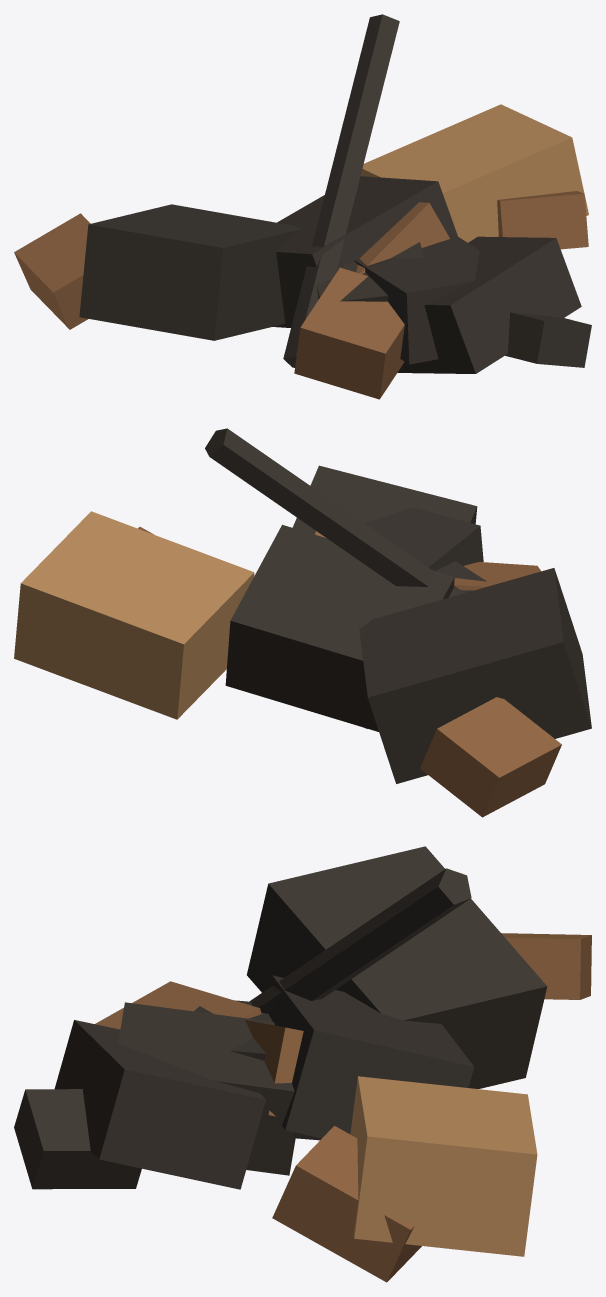
Rendered from rubble.glb.
3 views of the same model, one above another, from view 1: azimuth 30°, elevation 25°; view 2: azimuth 150°, elevation 25°; view 3: azimuth 270°, elevation 25° (orthographic). The views are drawn at different scales.
Visible parts, largest first — view 1: part, part.008, part.001, part.005, part.011, part.006, part.004, part.009, part.007, part.002, part.003, part.010; view 2: part.008, part, part.006, part.009, part.011, part.001, part.004, part.005; view 3: part, part.008, part.001, part.006, part.004, part.007, part.011, part.002, part.009, part.005, part.003, part.010.
Boxes of the visible parts, box(x1,y1,x2,y2) form: part: box(79, 204, 300, 340); part.008: box(360, 104, 588, 242); part.001: box(397, 236, 581, 373); part.005: box(294, 267, 404, 399); part.011: box(283, 14, 399, 367); part.006: box(273, 176, 457, 327); part.004: box(354, 232, 479, 364); part.009: box(14, 213, 90, 329); part.007: box(497, 191, 588, 249); part.002: box(505, 312, 591, 367); part.003: box(356, 202, 449, 273); part.010: box(316, 242, 424, 301); part.008: box(14, 511, 254, 719); part: box(359, 568, 591, 783); part.006: box(225, 524, 454, 731); part.009: box(420, 697, 561, 817); part.011: box(205, 428, 464, 597); part.001: box(292, 465, 477, 534); part.004: box(364, 507, 483, 570); part.005: box(454, 562, 540, 590); part: box(247, 846, 547, 1088); part.008: box(350, 1076, 537, 1256); part.001: box(54, 1020, 265, 1189); part.006: box(268, 975, 474, 1138); part.004: box(118, 1002, 295, 1175); part.007: box(272, 1126, 421, 1282); part.011: box(249, 868, 471, 1013); part.002: box(14, 1089, 141, 1189); part.009: box(501, 933, 591, 999); part.005: box(95, 981, 261, 1029); part.003: box(245, 1020, 303, 1116); part.010: box(194, 1000, 321, 1140).
Bounding box in the file's own units: 1.73 × 0.9014 × 1.41.
